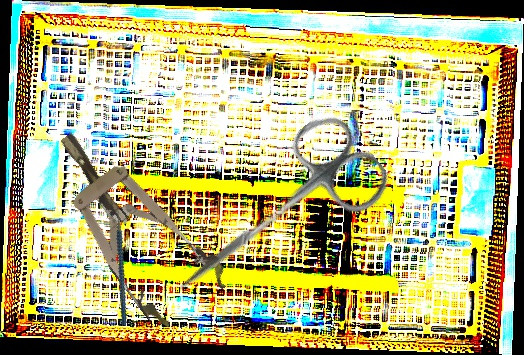Chopper: (77, 198, 159, 326)
Iris Scissors: (150, 104, 398, 333)
Speculum: (30, 108, 234, 336)
